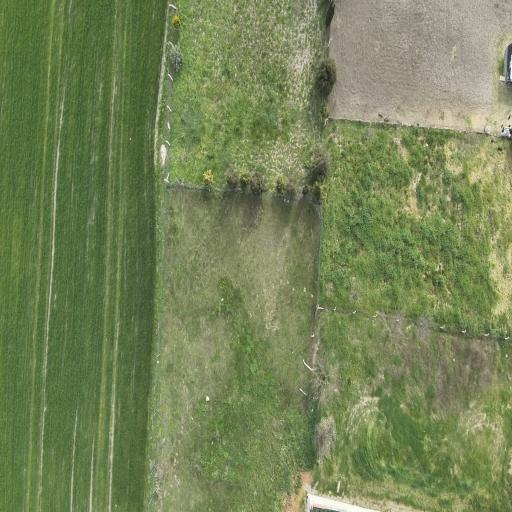person: (502, 126, 511, 138)
